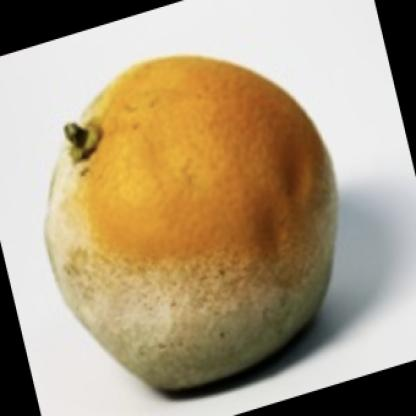rotten: (45, 58, 337, 383)
